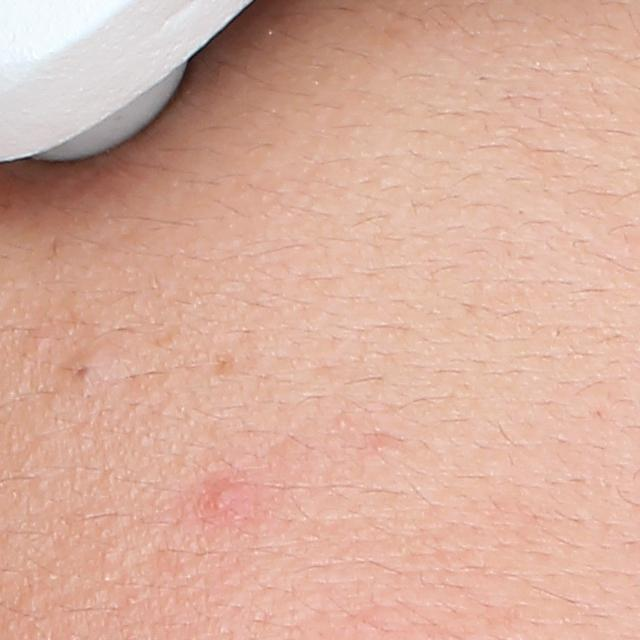comedo: (58, 353, 100, 391)
